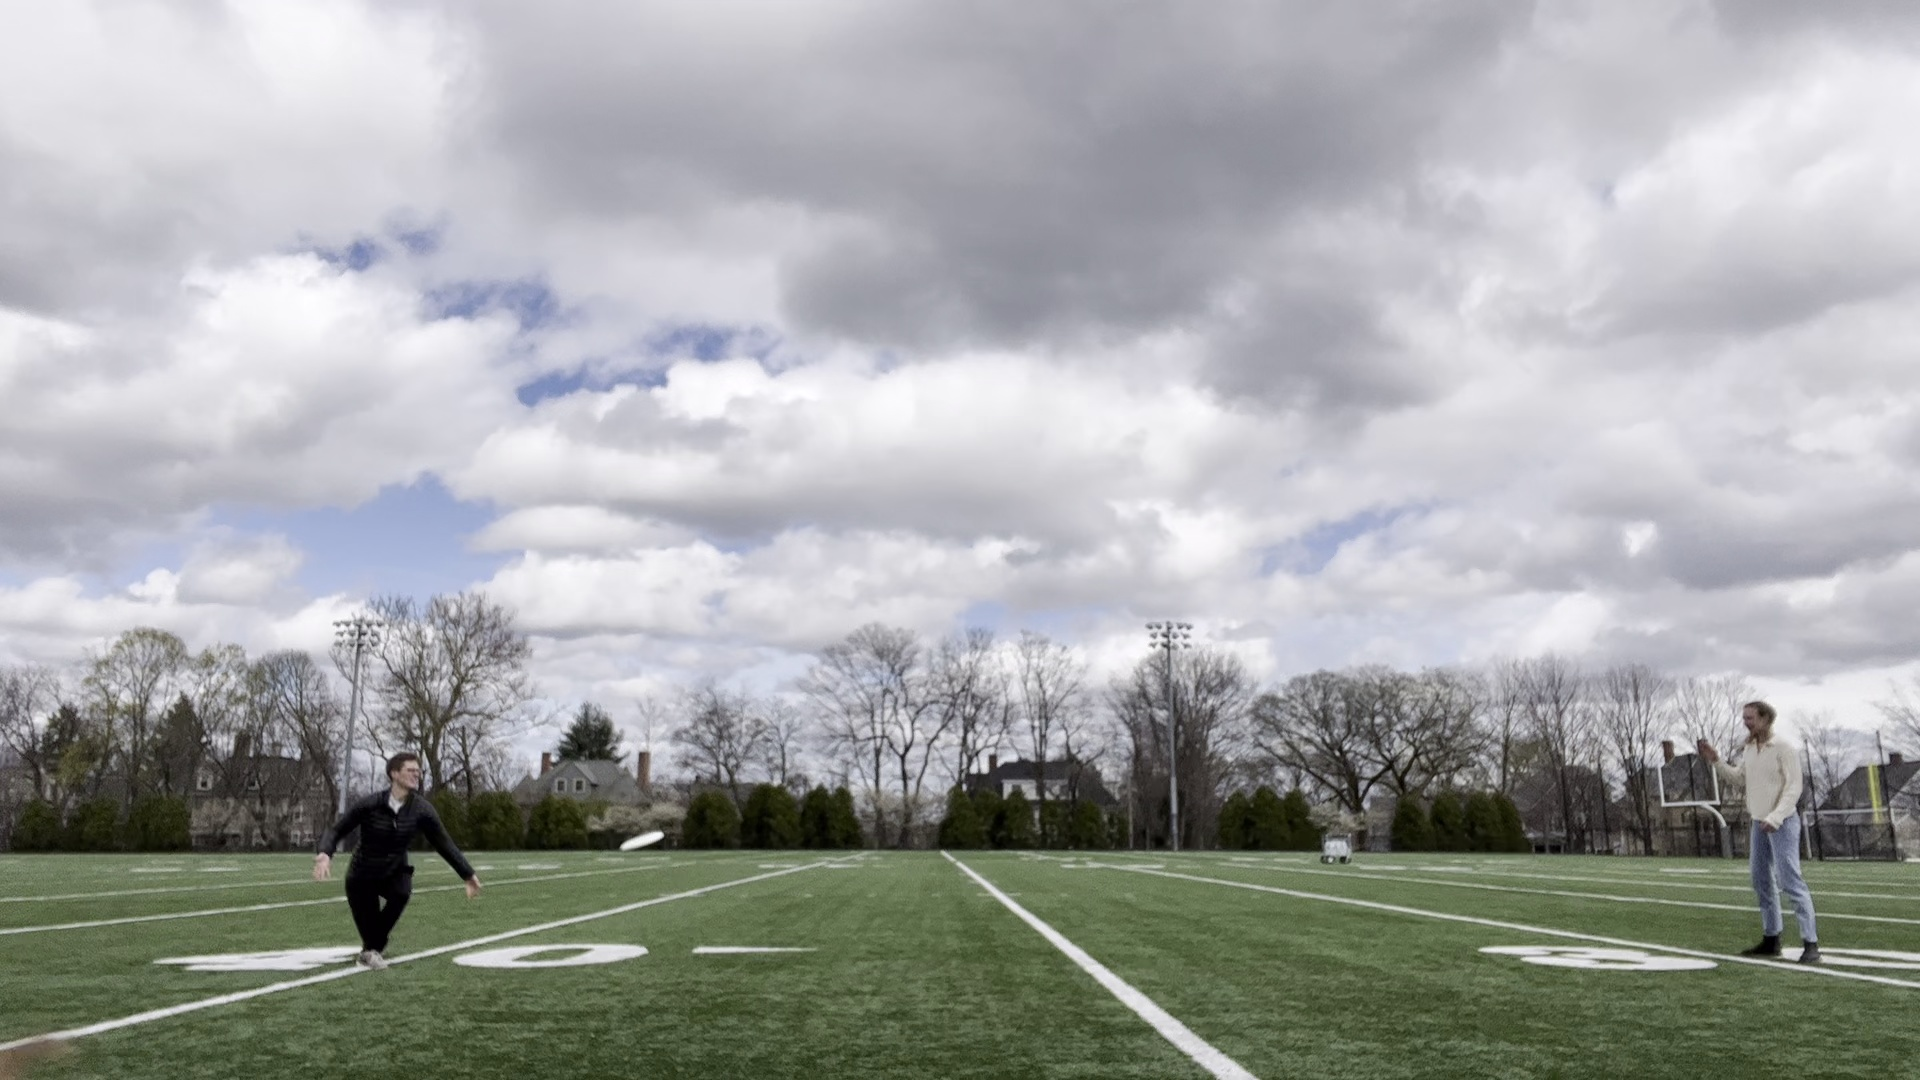Frisbee: (612, 827, 669, 857)
